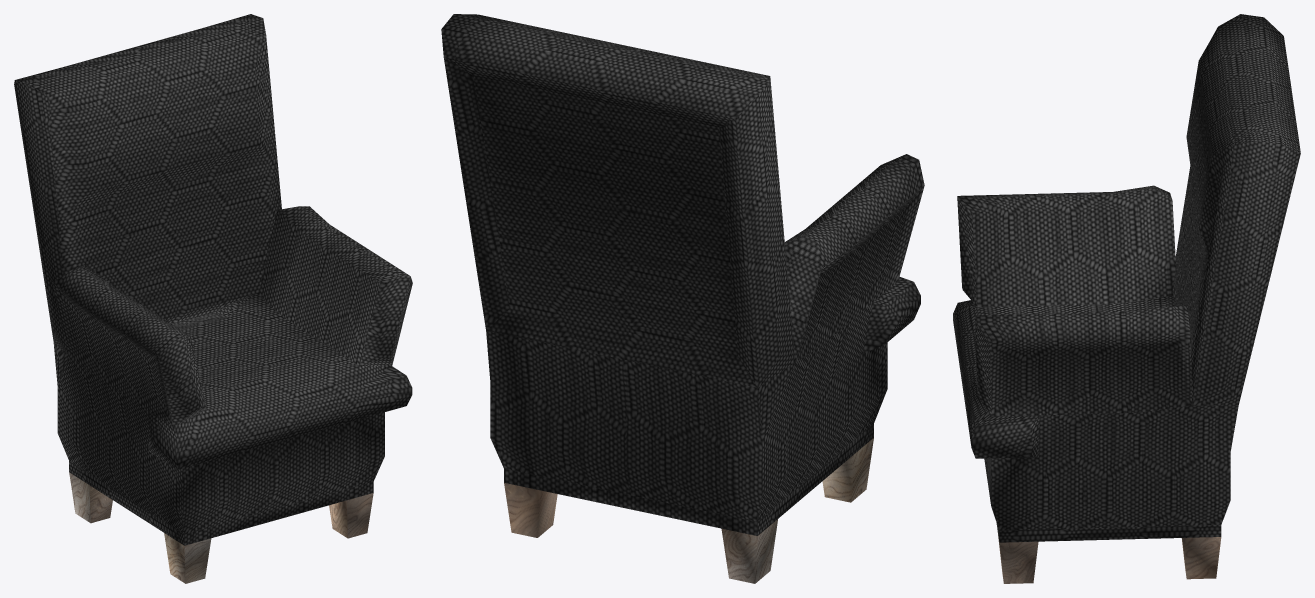
File: armChair.fbx
3 renders of one model, left to right at view 1: azimuth 30°, elevation 25°; view 2: azimuth 150°, elevation 25°; view 3: azimuth 270°, elevation 25°, orthographic. The views are drawn at different scales.
Visible parts, largest first — view 1: Box001; view 2: Box001; view 3: Box001.
Part boxes in pixels (<box>): Box001: <box>14,14,412,583</box>; Box001: <box>441,14,924,583</box>; Box001: <box>953,14,1300,583</box>.
Bounding box in the file's own units: 70.7 × 104 × 72.52.
